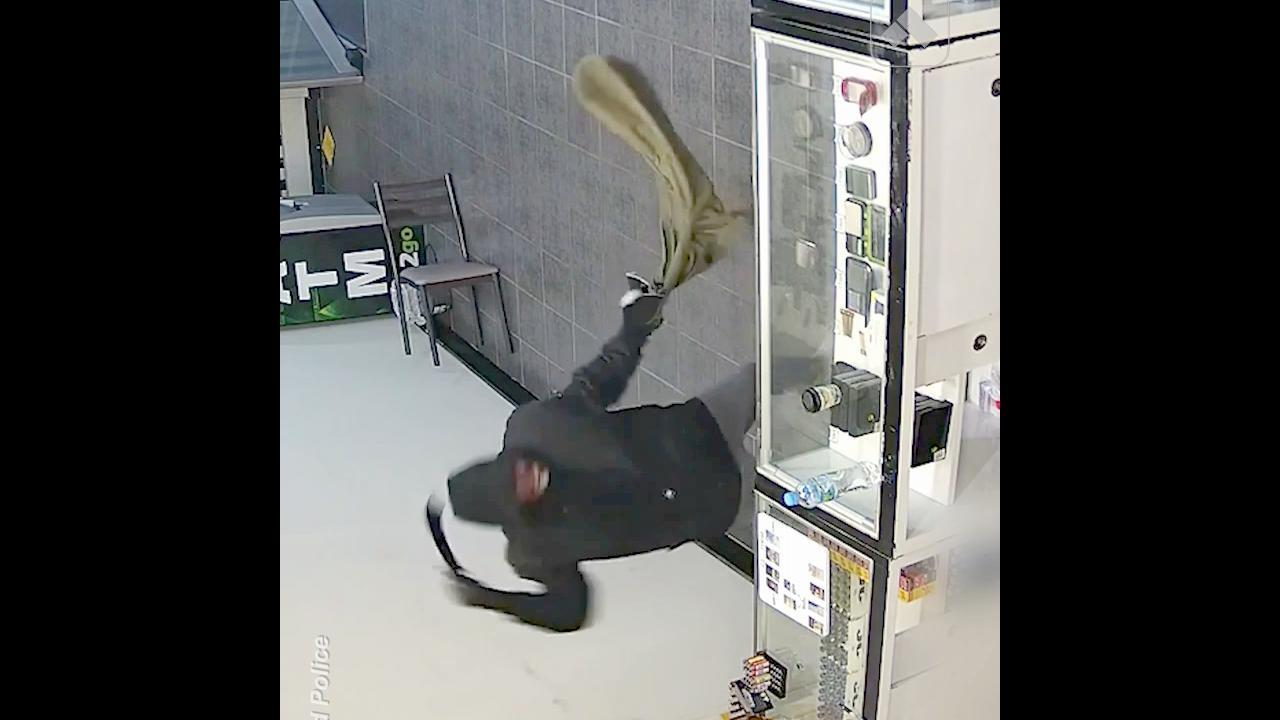melee: (414, 490, 468, 598)
